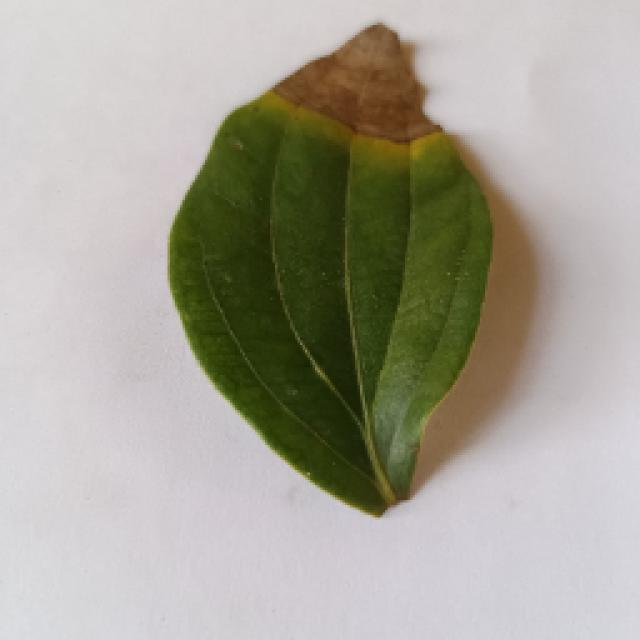footrot: (160, 23, 495, 515)
